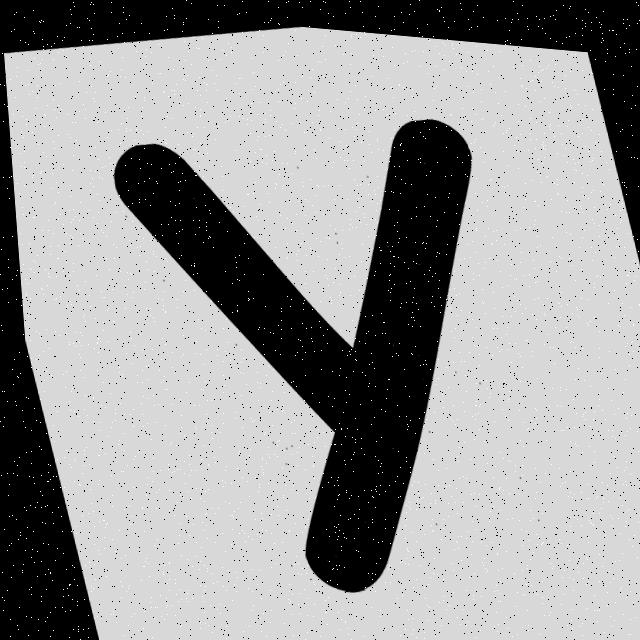Y: (112, 112, 469, 585)
